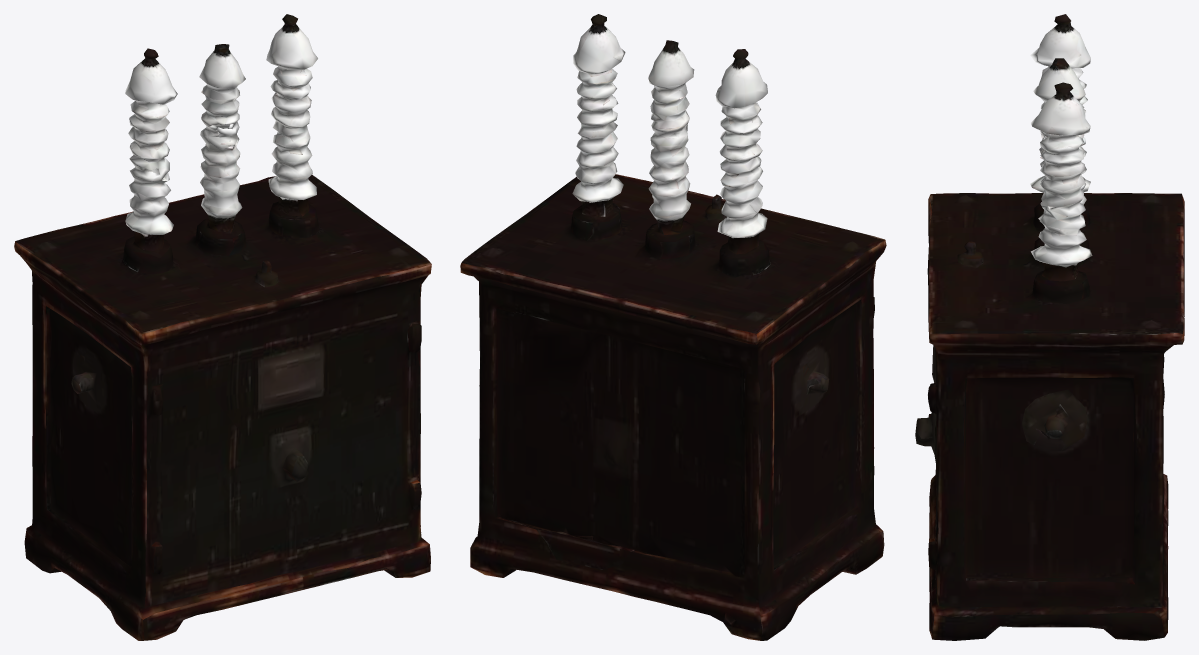
The model's file is transformador.glb.
3 views of the same model, side by side, from view 1: azimuth 30°, elevation 25°; view 2: azimuth 150°, elevation 25°; view 3: azimuth 270°, elevation 25° (orthographic). The views are drawn at different scales.
Visible parts, largest first — view 1: geometry_0; view 2: geometry_0; view 3: geometry_0.
Boxes of the visible parts, x1,y1,x2,y2 form: geometry_0: [14, 14, 431, 640]; geometry_0: [460, 14, 886, 640]; geometry_0: [915, 14, 1184, 640].
Bounding box in the file's own units: 0.9 × 1.5 × 0.7.
Materials: 1 (1 with a texture image).
